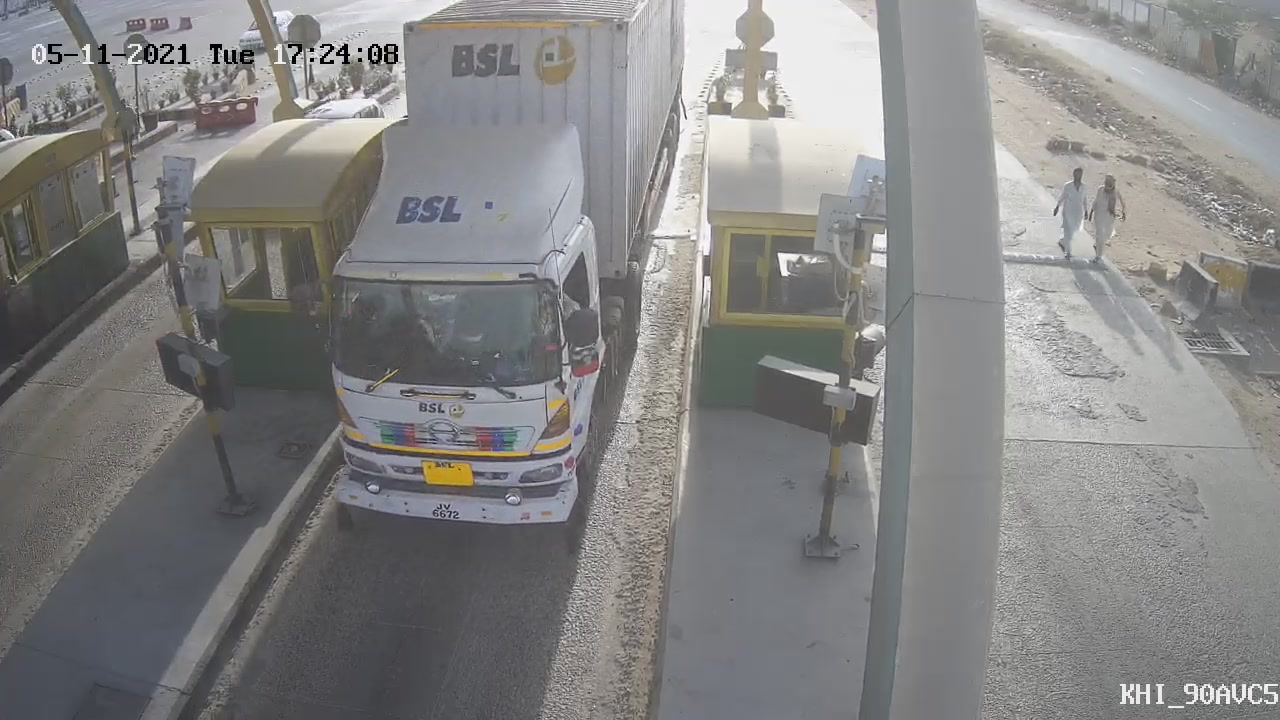F6: (264, 4, 708, 573)
